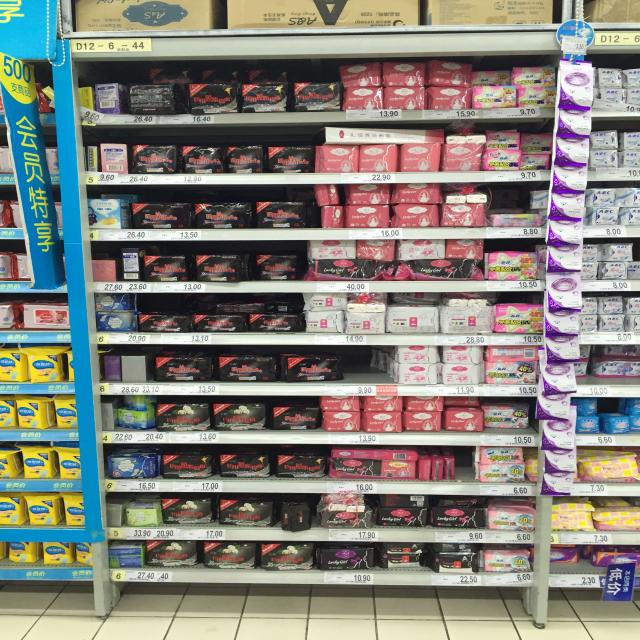void: (348, 347, 391, 396)
